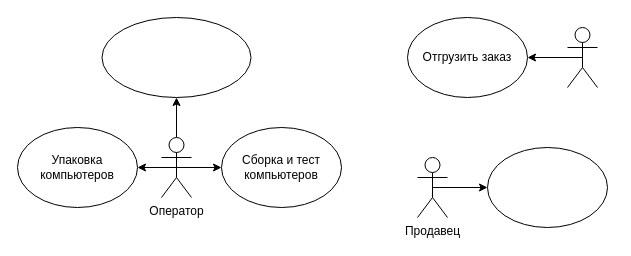
This 631x256 diagram has some shape labels left out. The box of each missing label's shape, as (x1, y1, x2, y2) in pixels:
Группировка заказов по типу компьютеров: (101, 16, 251, 98)
Кладовщик: (566, 26, 598, 88)
Принять заказ: (486, 146, 608, 228)
